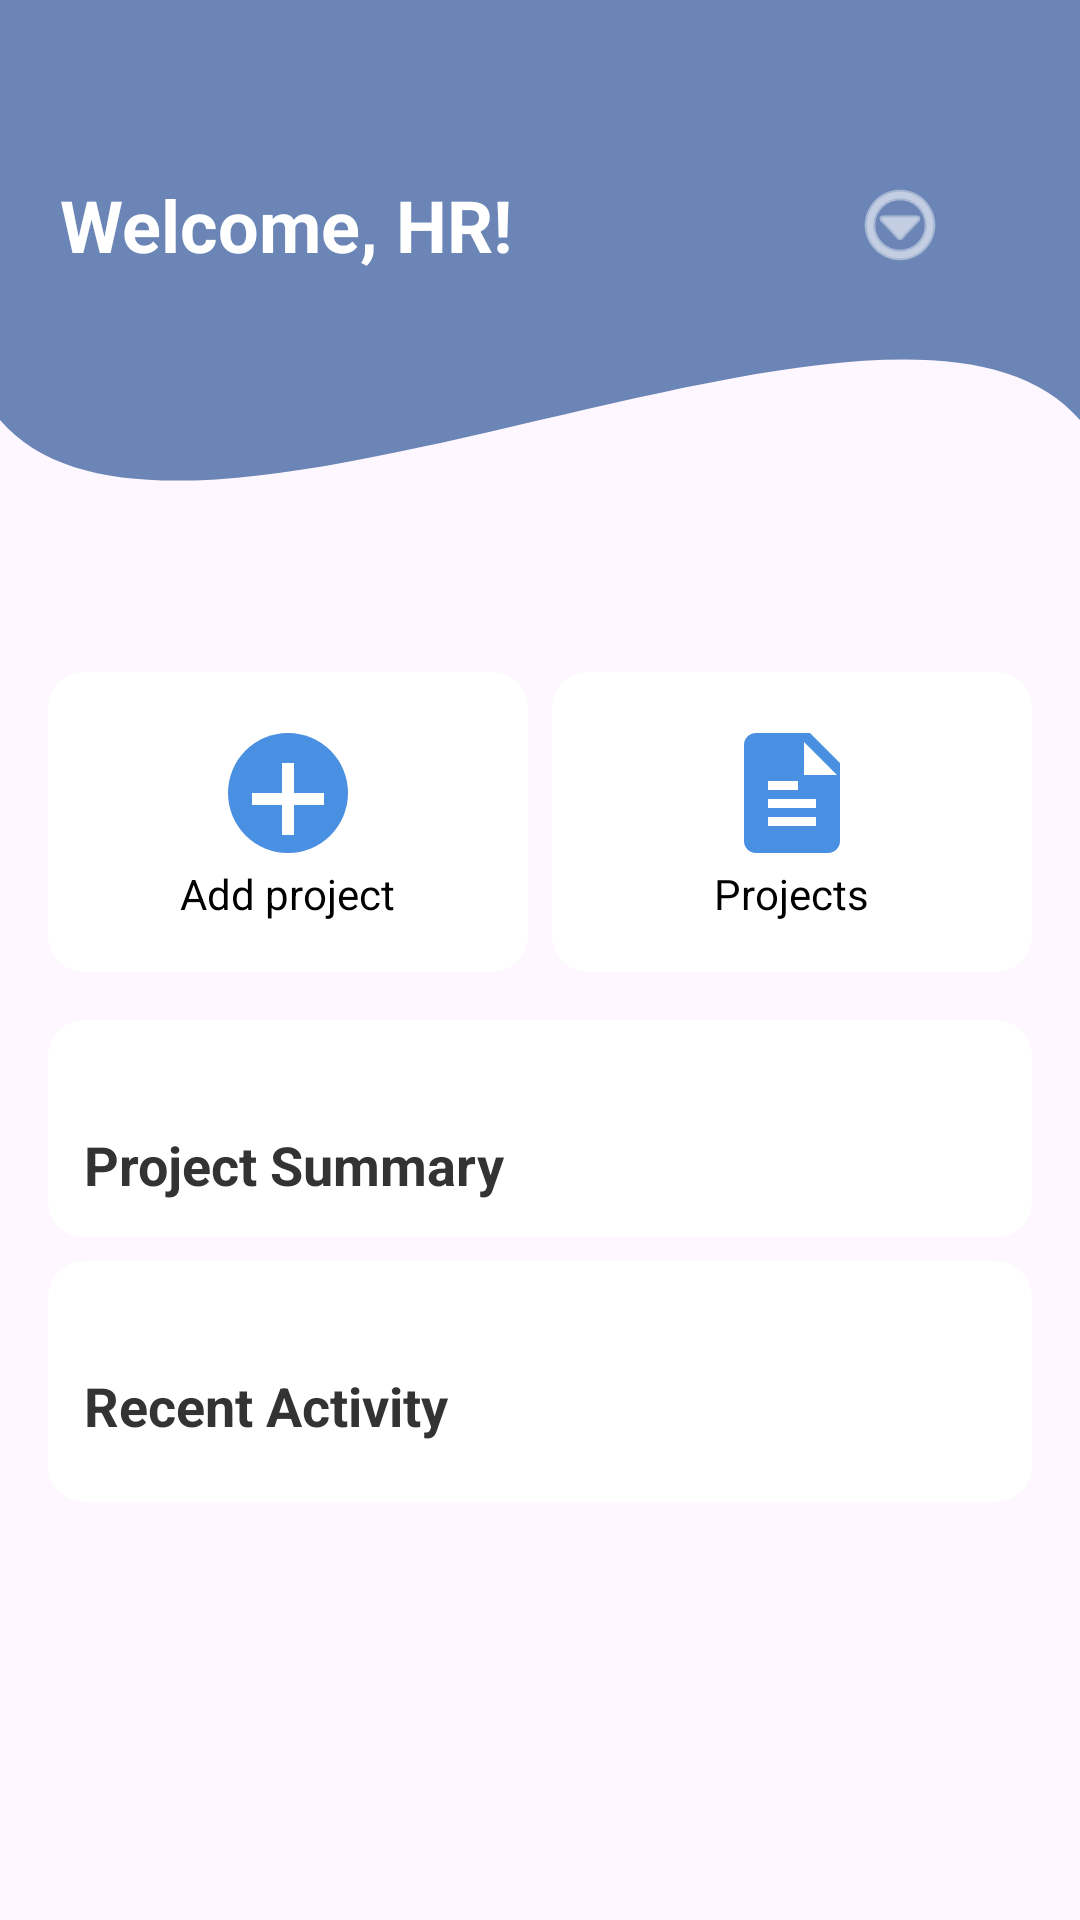

Point at icon controls on the screen. Image size 1080px×1920px, points as point (x, y).
add task: point (288, 793)
Menu: point (900, 225)
reports: point (792, 793)
